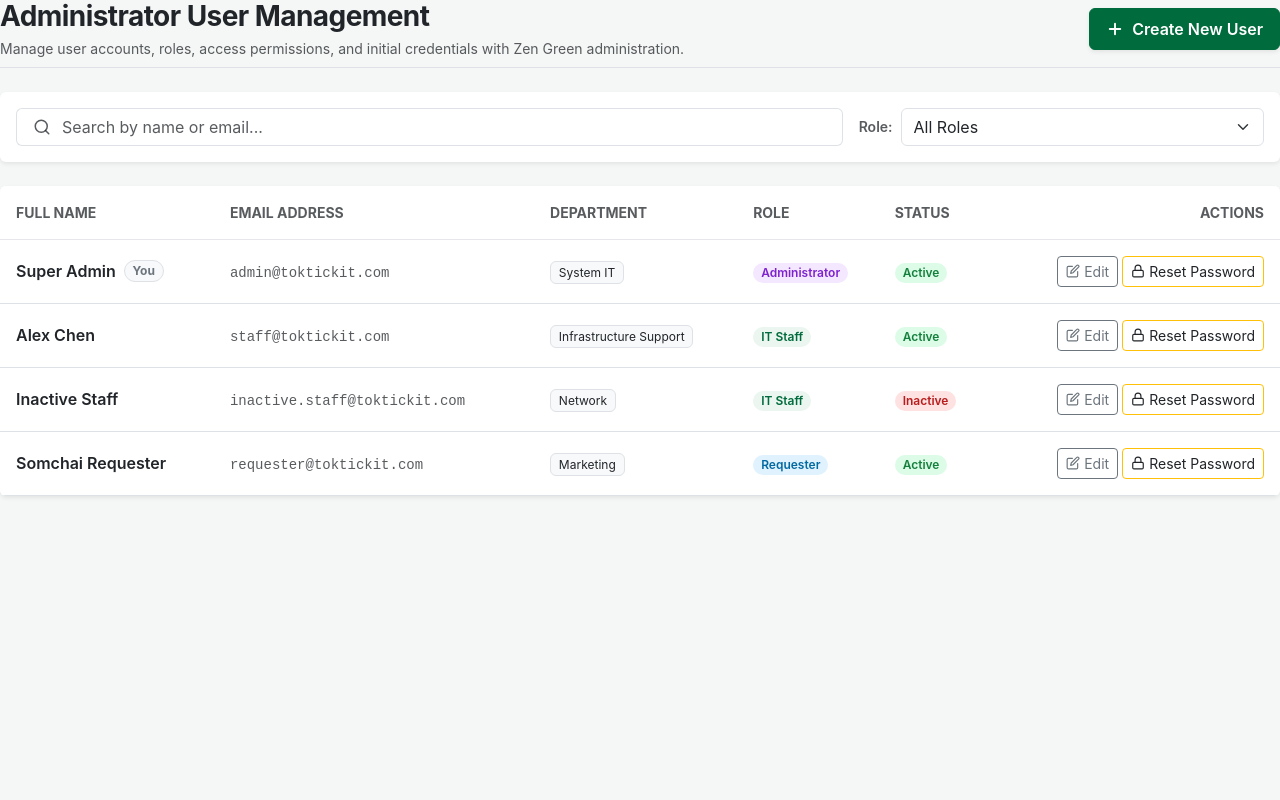
Test case: UserManagementView Component (Issue 27 / FR-15..20 / AC-09..12) › successfully updates user details when saving valid changes
Note: Edit user 2 (Alex Chen)
Click the button with test id "edit-user-btn-2" at (1088, 335), box [1057,320,1118,351]
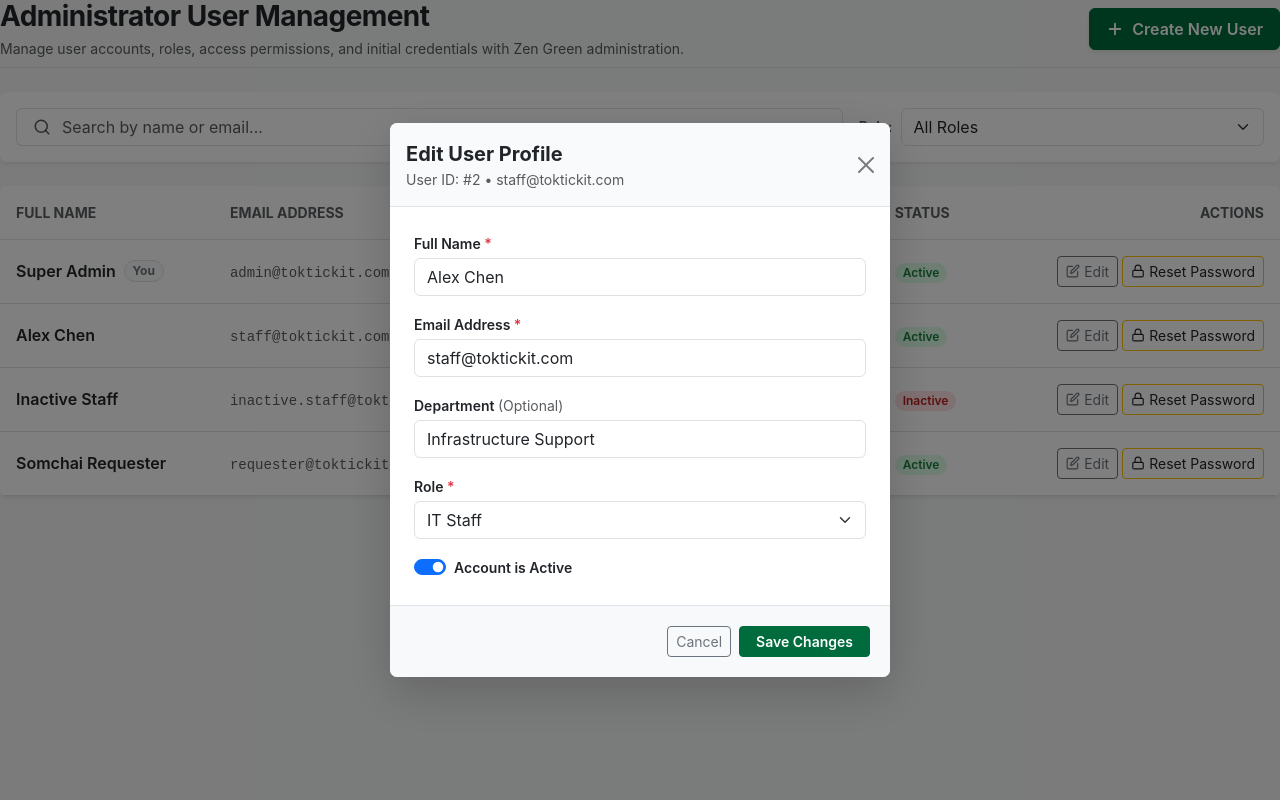
Replace the text in the field with test id "edit-user-fullname" with "Alex Chen Senior" at (640, 277), box [414,258,866,296]
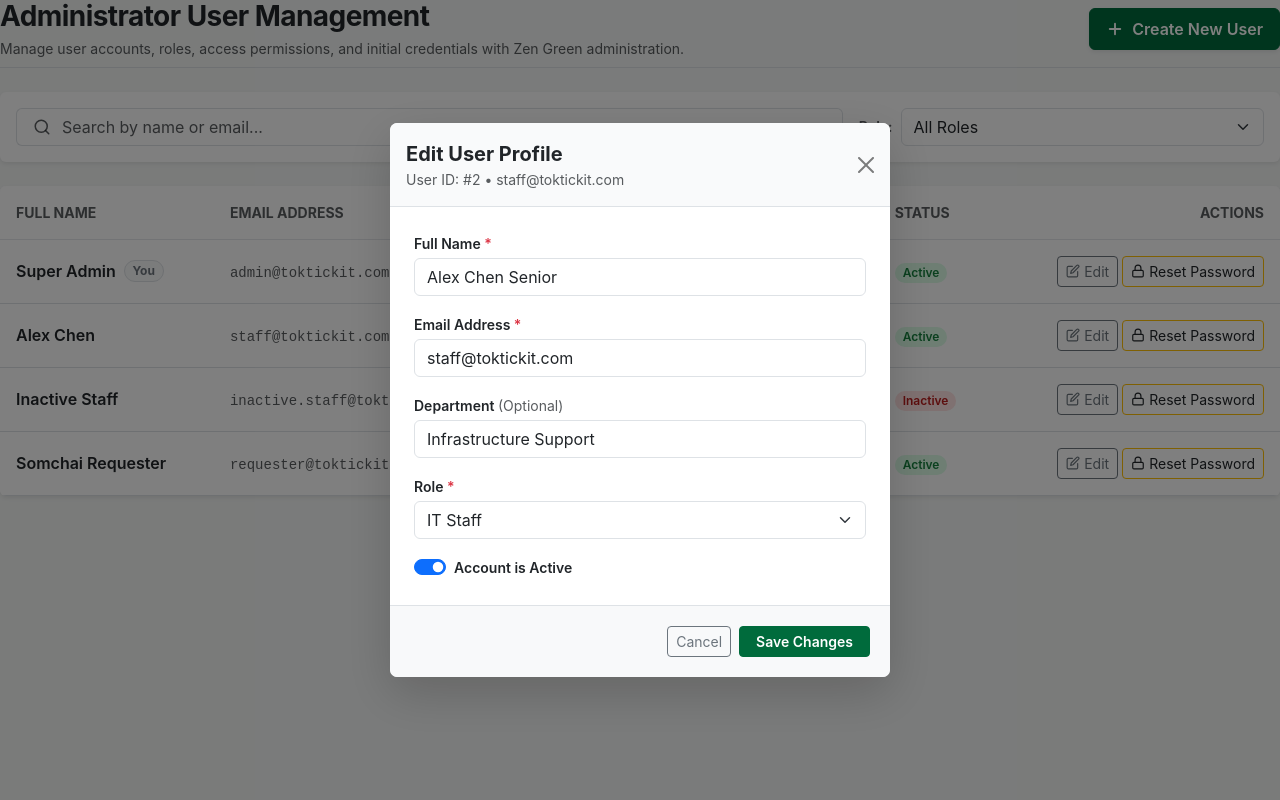
Replace the text in the field with test id "edit-user-department" with "Cloud Operations" at (640, 439), box [414,420,866,458]
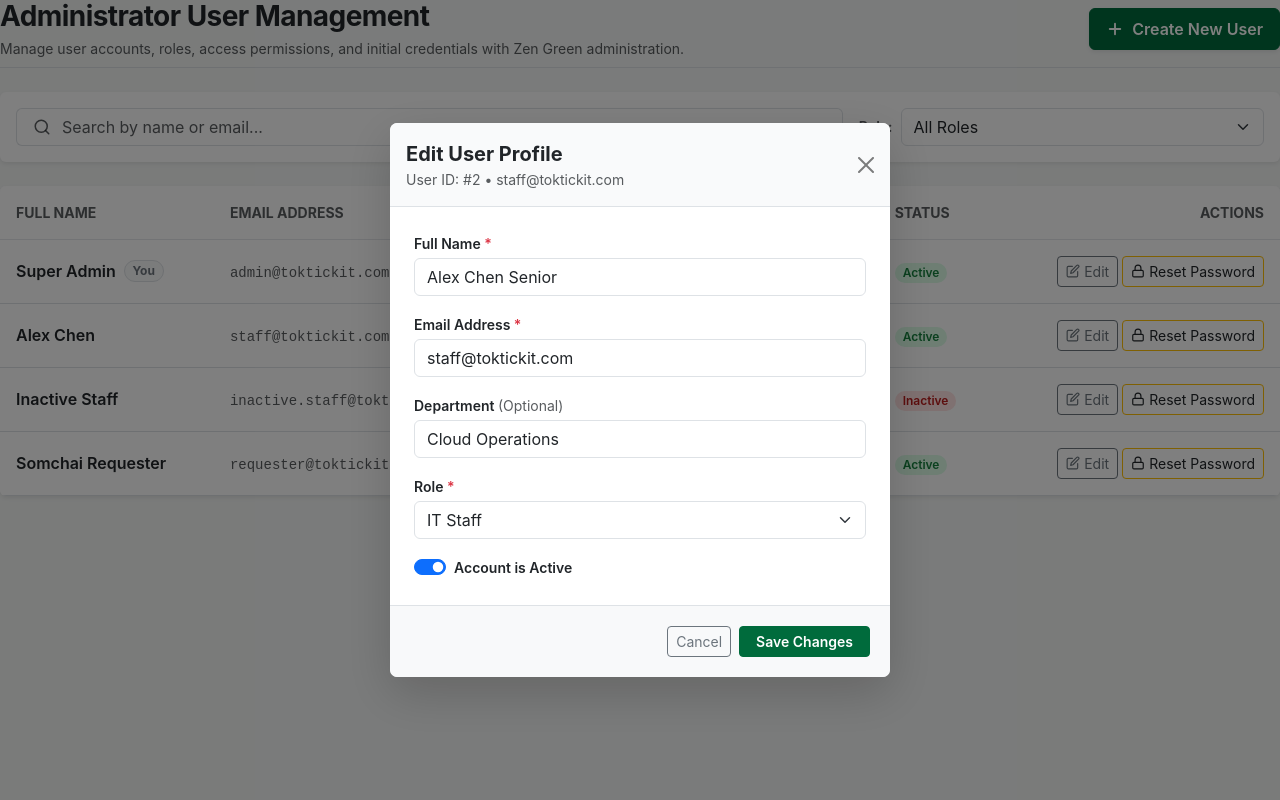
Click the button with test id "submit-edit-user" at (805, 642), box [739,626,870,657]
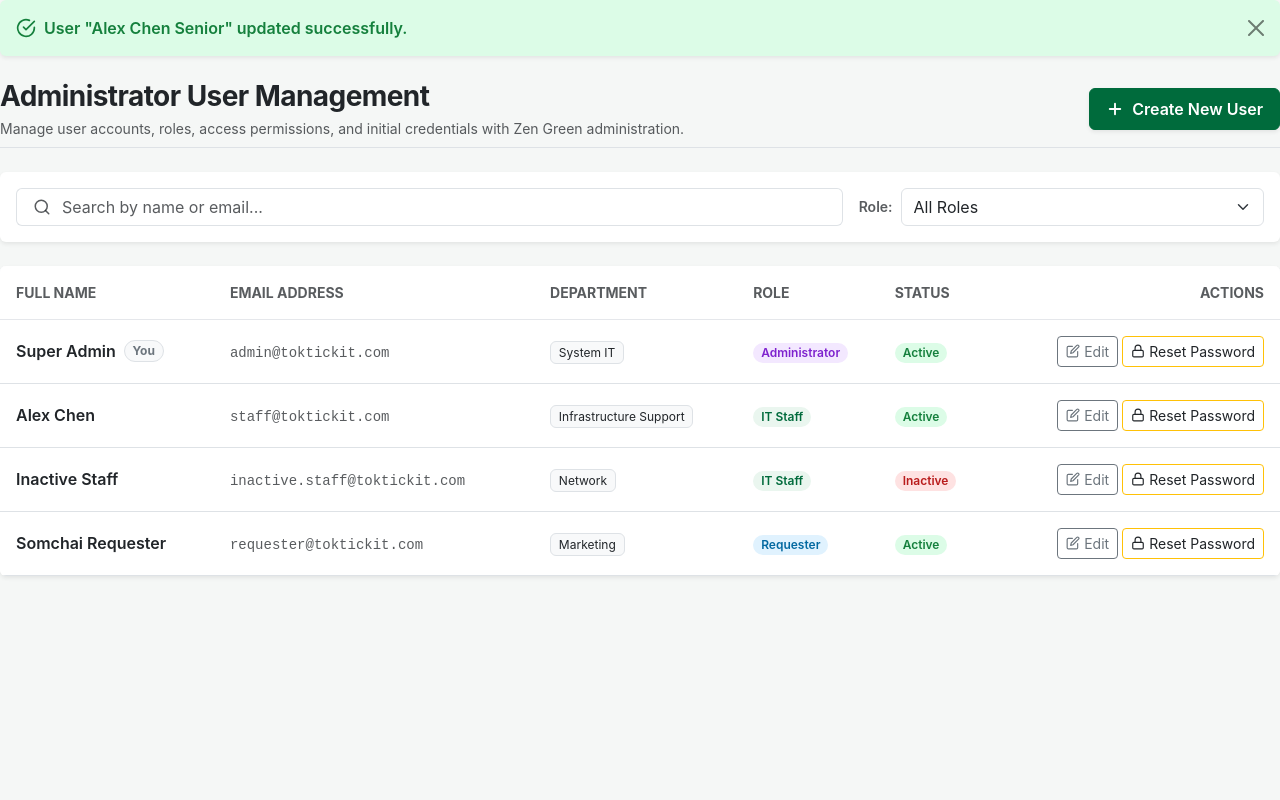
Check: the message with test id "success-toast" reads "User \"Alex Chen Senior\" updated successfully.", box [44,18,407,38]
